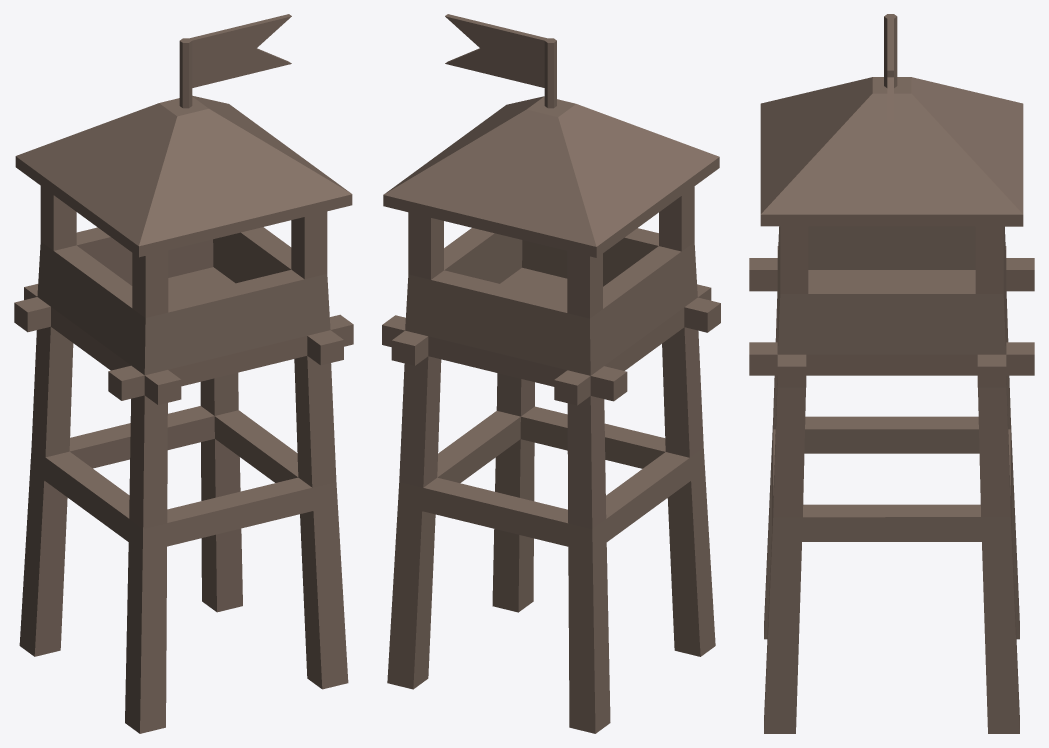
The model's file is md_watchtower_roof.glb.
The picture shows the model from 3 angles, left to right: view 1: azimuth 30°, elevation 25°; view 2: azimuth 150°, elevation 25°; view 3: azimuth 270°, elevation 25°; orthographic projection. The views are drawn at different scales.
Visible parts, largest first — view 1: md_watchtower_roof2; view 2: md_watchtower_roof2; view 3: md_watchtower_roof2.
Part boxes in pixels (x1,y1,x2,y2): md_watchtower_roof2: (14, 14, 353, 733); md_watchtower_roof2: (382, 14, 720, 733); md_watchtower_roof2: (749, 14, 1034, 733).
Size of the model in its own units: 3.11 by 8 by 3.11.
